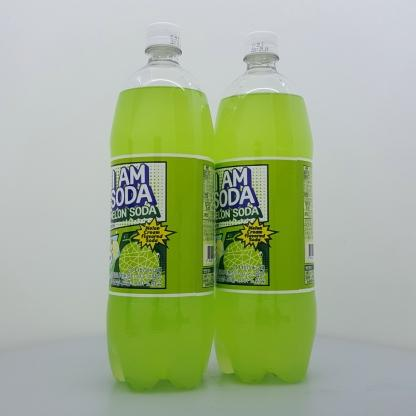-----------: (106, 22, 216, 391), (211, 30, 317, 383)
